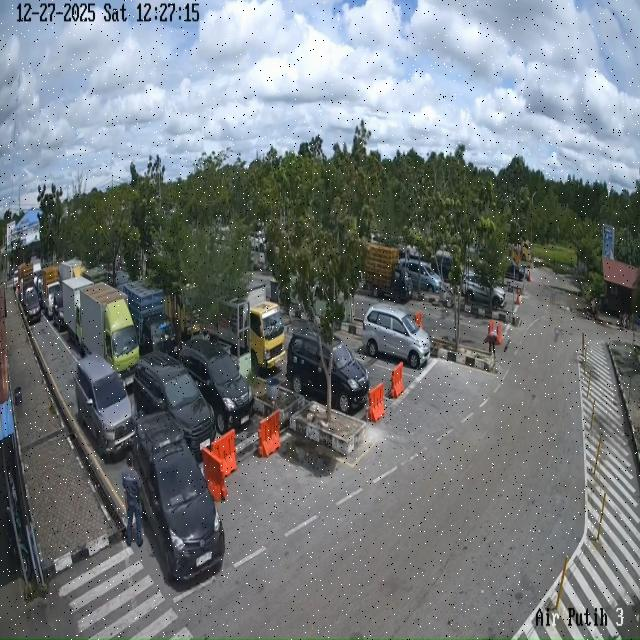Golongan IVA: (132, 412, 225, 581), (133, 352, 215, 460), (179, 339, 255, 434), (286, 328, 370, 413), (75, 354, 135, 459), (362, 304, 431, 369), (462, 271, 506, 308), (400, 258, 443, 294), (44, 282, 62, 320), (24, 289, 41, 324), (52, 291, 66, 332), (505, 258, 526, 282)
Golongan VB: (207, 284, 286, 371), (80, 283, 139, 387), (122, 281, 178, 358), (364, 244, 413, 304), (59, 277, 93, 348), (164, 284, 201, 342), (42, 265, 61, 320), (58, 258, 84, 283)
